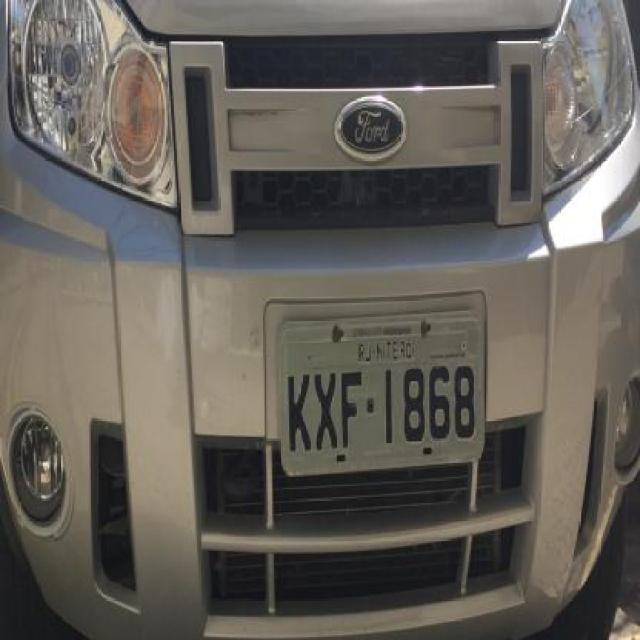old_plate: (270, 304, 492, 486)
